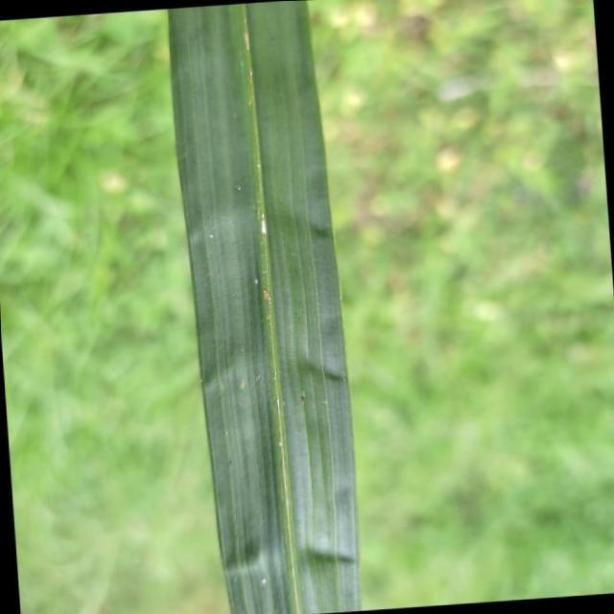Boron: (168, 0, 360, 614)
